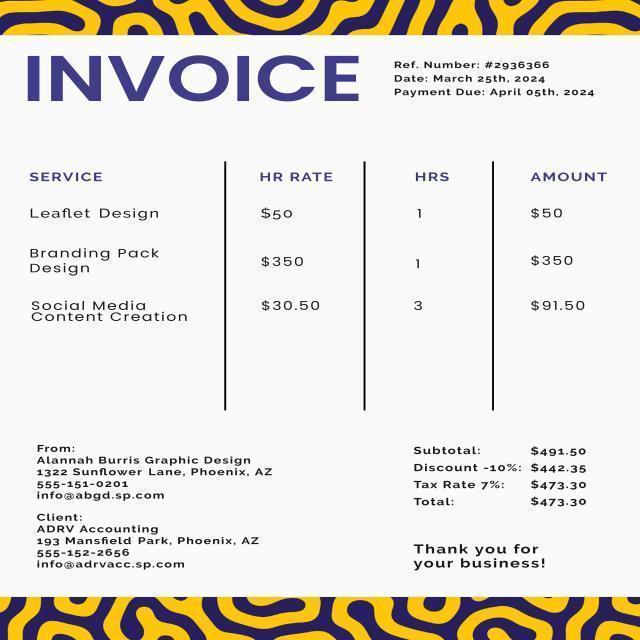paragraph: (26, 55, 364, 113), (29, 505, 287, 579), (29, 436, 303, 503), (409, 435, 594, 511), (391, 56, 605, 105), (411, 538, 559, 581)
table: (21, 160, 617, 366)
